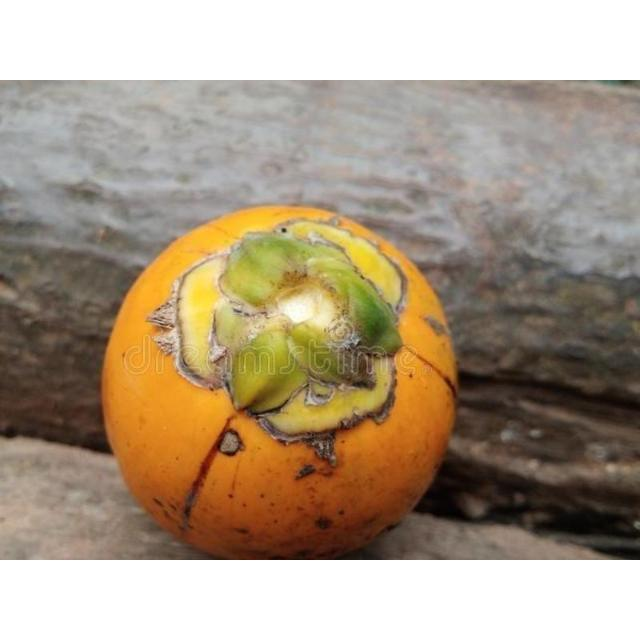good: (101, 205, 458, 559)
